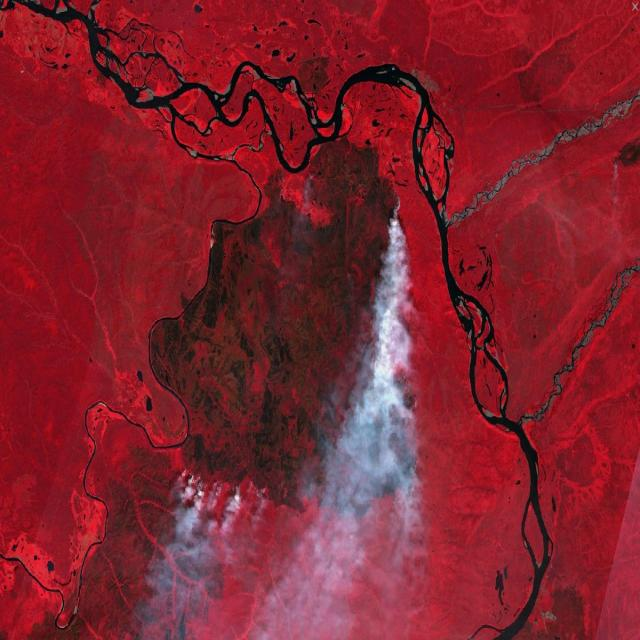fire: (368, 178, 423, 506), (177, 466, 270, 511)
